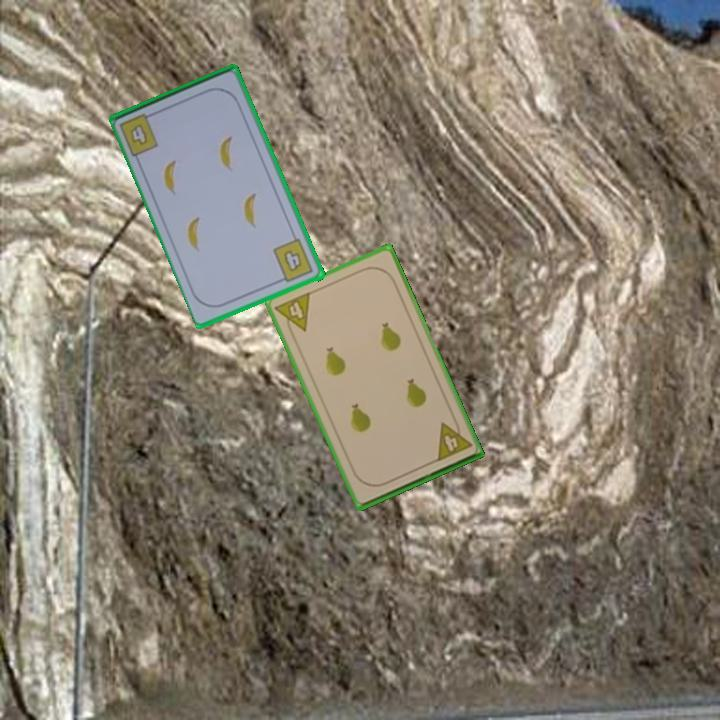4b: (270, 235, 316, 286), (127, 123, 151, 148)
4p: (271, 288, 313, 339), (432, 415, 475, 464)
